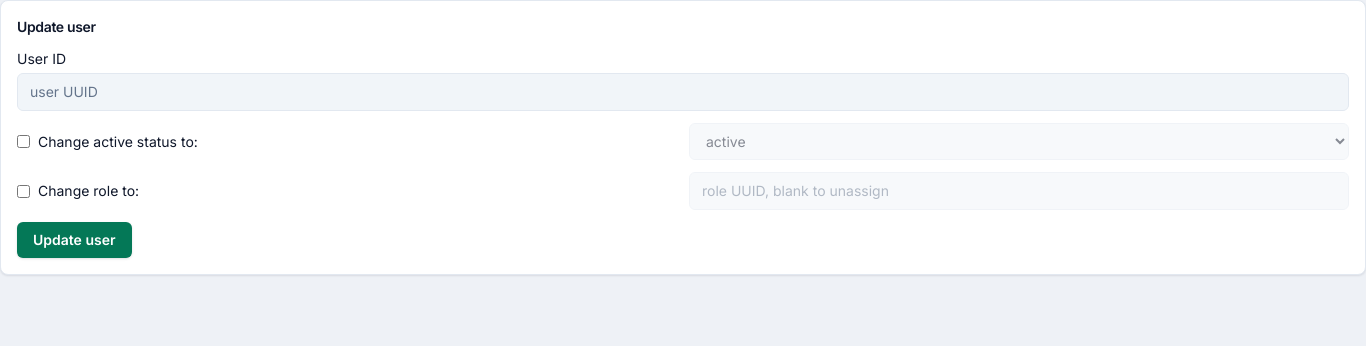
Test case: UpdateUserForm › surfaces a real 404 for an unknown user_id
The width and height of the screenshot is (1366, 346).
Type "does-not-exist" into the field labelled "User ID" at (683, 92), box top-left (17, 73), bottom-right (1349, 111)
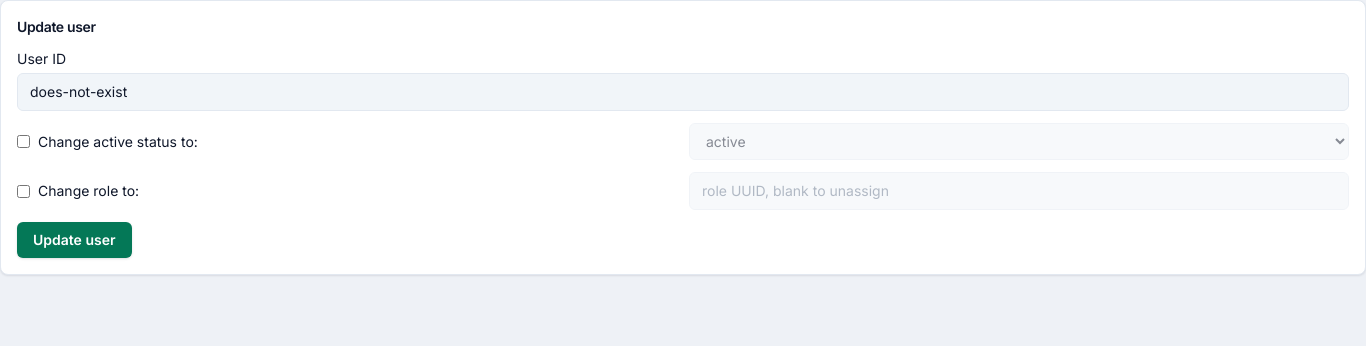
Click the button "Update user" at (74, 240), box top-left (17, 222), bottom-right (132, 258)
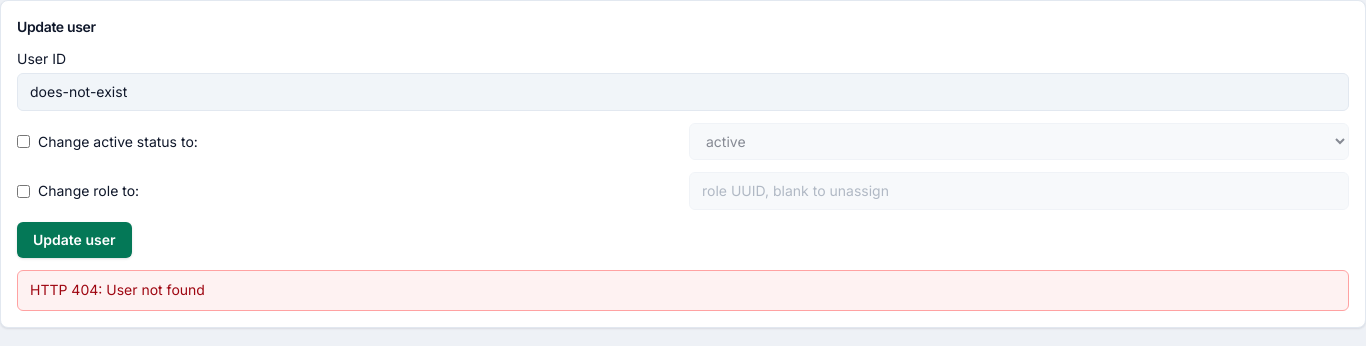
Now the text "HTTP 404: User not found" is shown, box top-left (17, 270), bottom-right (1349, 311)
